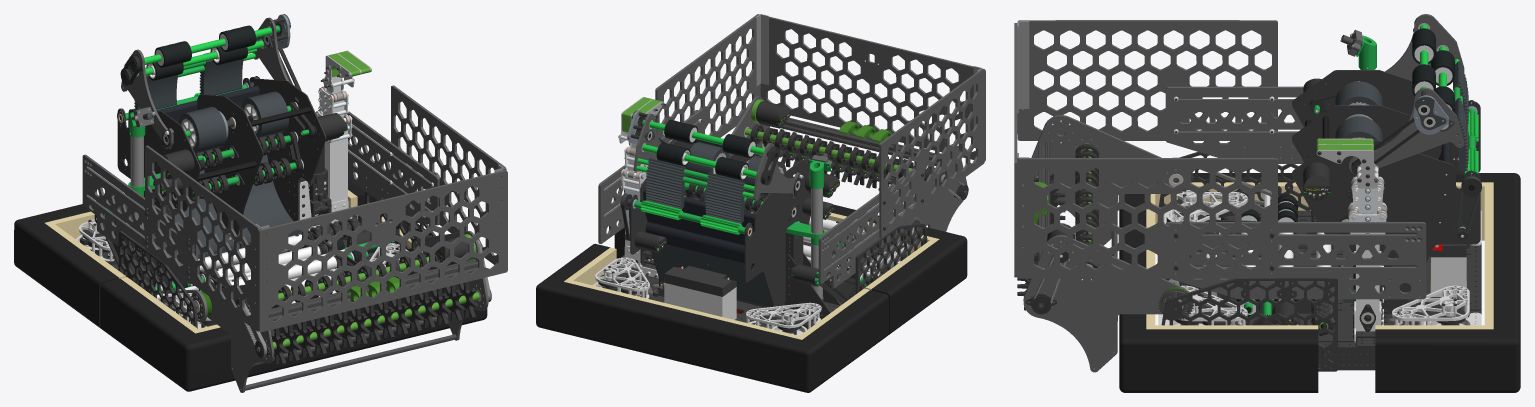
Rendered from entropy-dalton.glb.
3 views of the same model, side by side, from view 1: azimuth 30°, elevation 25°; view 2: azimuth 150°, elevation 25°; view 3: azimuth 270°, elevation 25° (orthographic). The views are drawn at different scales.
Visible parts, largest first — view 1: hopper__clear, shooter__matte, bumpers__matte, intake__matte, hood__matte, climber__matte, intake__clear, intake__metal, hood__metal, shooter__metal, hood__clear, indexer__matte (+5 smaller); view 2: hopper__clear, bumpers__matte, shooter__matte, intake__matte, hood__matte, hood__metal, shooter__metal, power__matte, drive__matte, intake__clear, hood__clear, climber__matte (+9 smaller); view 3: hopper__clear, bumpers__matte, shooter__matte, intake__clear, intake__matte, drive__matte, hood__clear, hood__matte, frame__metal, climber__matte, shooter__metal, climber__metal (+8 smaller).
Boxes of the visible parts, x1,y1,x2,y2 form: hopper__clear: [82, 85, 507, 332]; shooter__matte: [112, 76, 356, 270]; bumpers__matte: [14, 179, 487, 391]; intake__matte: [118, 191, 490, 364]; hood__matte: [123, 14, 301, 90]; climber__matte: [299, 50, 371, 230]; intake__clear: [207, 231, 488, 392]; intake__metal: [157, 228, 491, 390]; hood__metal: [120, 14, 290, 147]; shooter__metal: [111, 54, 347, 269]; hood__clear: [121, 17, 298, 149]; indexer__matte: [102, 207, 368, 306]; hopper__clear: [598, 14, 985, 288]; bumpers__matte: [536, 204, 967, 392]; shooter__matte: [617, 139, 839, 318]; intake__matte: [694, 99, 964, 294]; hood__matte: [627, 110, 777, 198]; hood__metal: [630, 110, 803, 223]; shooter__metal: [620, 139, 840, 318]; power__matte: [653, 266, 746, 322]; drive__matte: [595, 211, 908, 334]; intake__clear: [728, 96, 967, 231]; hood__clear: [633, 113, 800, 200]; climber__matte: [618, 97, 663, 278]; hopper__clear: [1014, 20, 1426, 299]; bumpers__matte: [1119, 173, 1520, 392]; shooter__matte: [1292, 70, 1481, 347]; intake__clear: [1023, 115, 1190, 372]; intake__matte: [1017, 142, 1337, 371]; drive__matte: [1158, 189, 1481, 325]; hood__clear: [1349, 14, 1464, 172]; hood__matte: [1351, 22, 1462, 165]; frame__metal: [1181, 210, 1481, 348]; climber__matte: [1316, 138, 1386, 342]; shooter__metal: [1303, 28, 1481, 240]; climber__metal: [1317, 151, 1387, 338].
Bounding box in the file's own units: 0.8508 × 0.6301 × 1.07.
